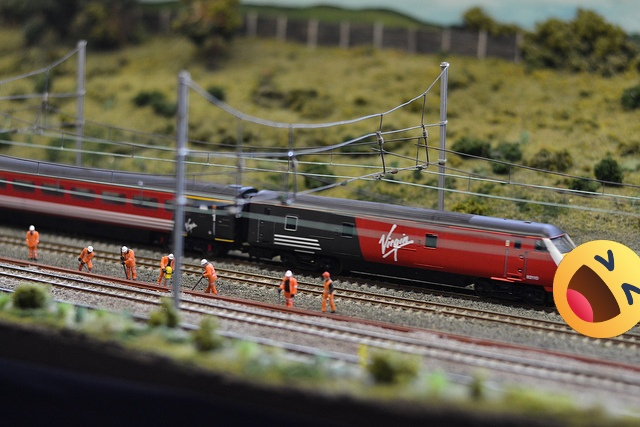haha: (553, 240, 640, 338)
